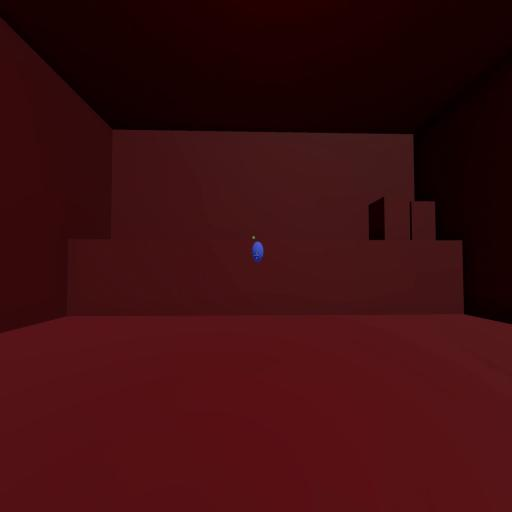Crosshair: (254, 252, 258, 260)
Target: (252, 240, 264, 263)
